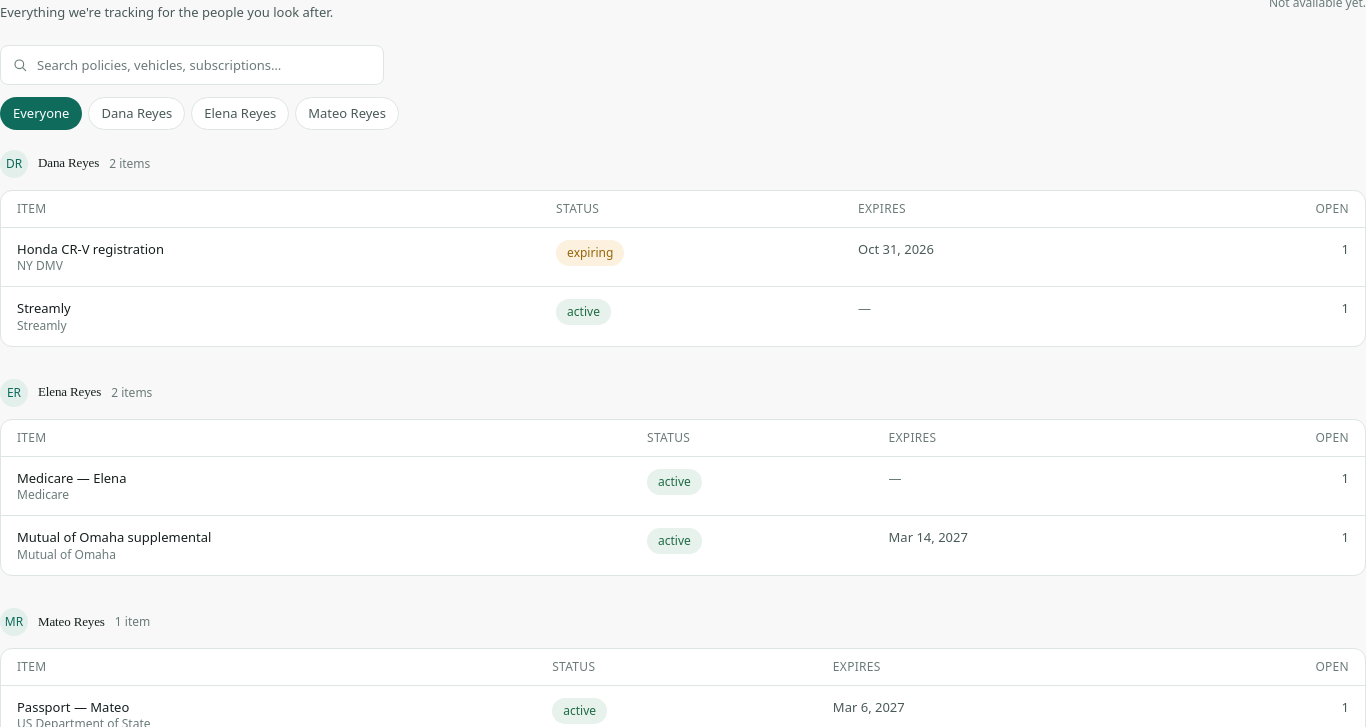
it: P0-10 Test C · the masked value and surrounding detail are unaffected › still renders the item's other detail fields
Click the text "Passport — Mateo". click: (73, 707)
box: x1=17 y1=698 x2=129 y2=716
(page scrolled)
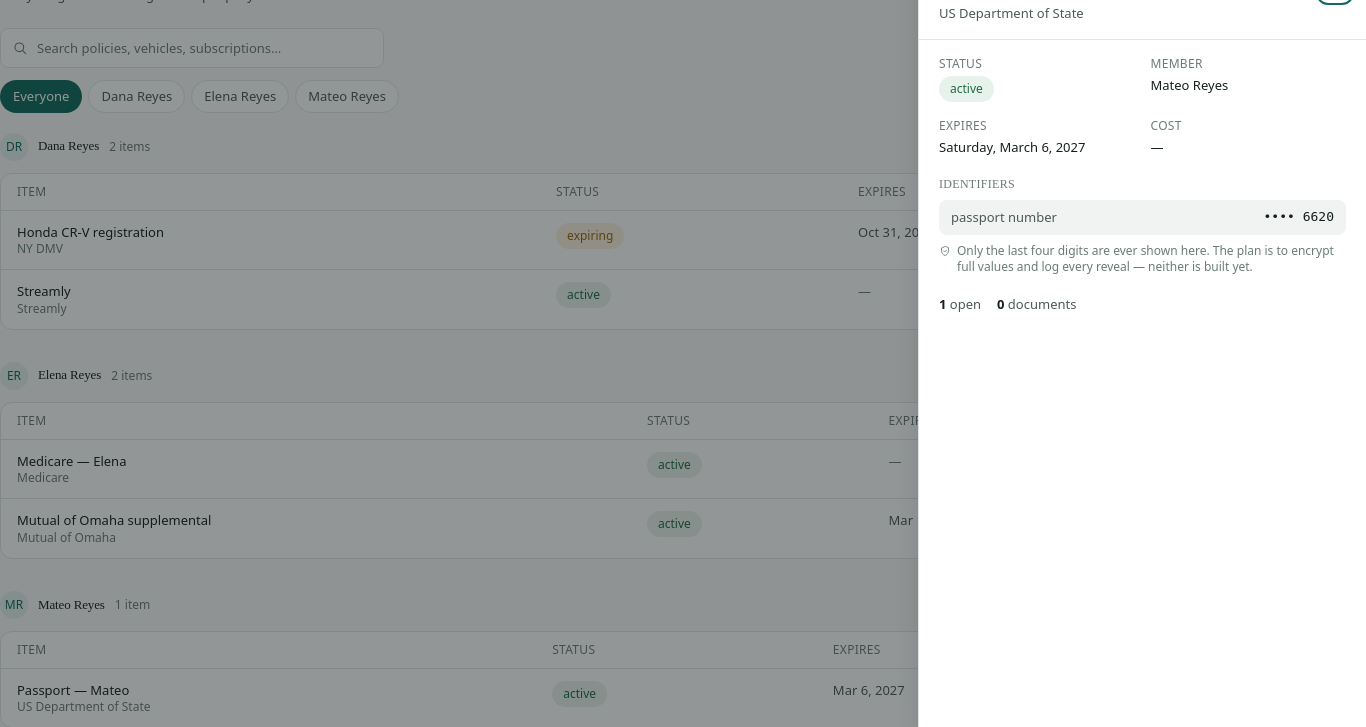
Expected: the heading "Identifiers" is shown, x1=939 y1=177 x2=1015 y2=191
Expected: the text "US Department of State" is shown, x1=939 y1=4 x2=1095 y2=23
Expected: the text "Mateo Reyes" is shown, x1=1150 y1=76 x2=1228 y2=94
